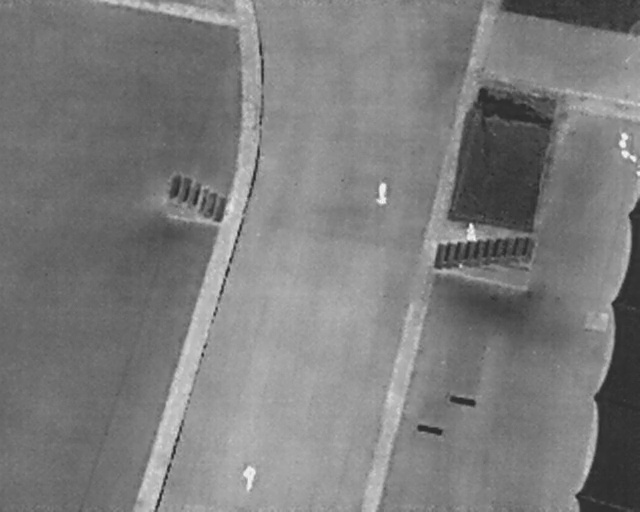Person: (242, 464, 256, 493), (375, 180, 390, 205), (466, 221, 477, 241)
